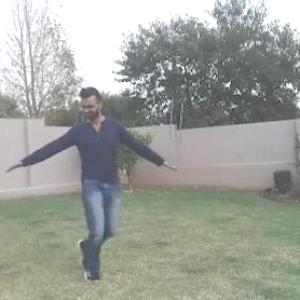land: (20, 94, 172, 263)
